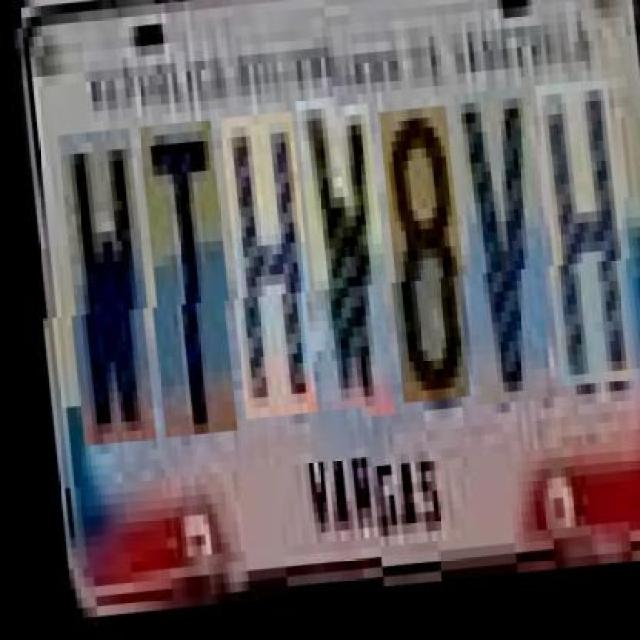8: (376, 115, 466, 410)
h: (532, 91, 628, 398), (218, 128, 313, 434)
t: (136, 134, 233, 451)
v: (450, 98, 548, 414)
w: (293, 110, 390, 428), (56, 140, 152, 457)
